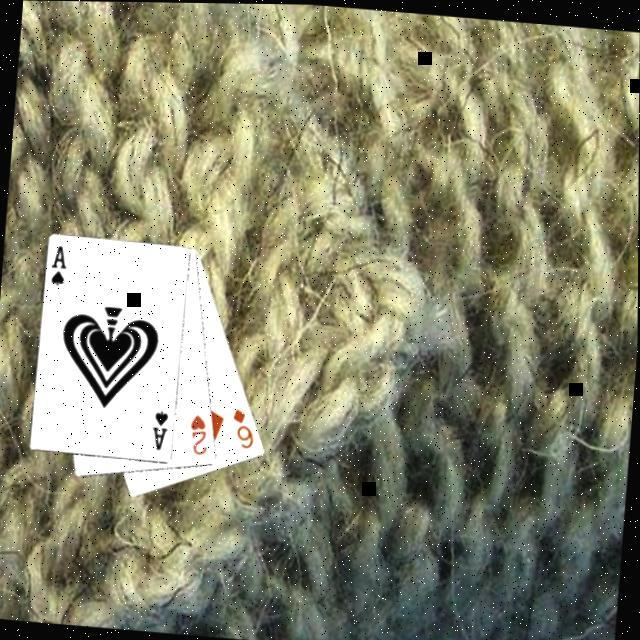2H: (184, 407, 211, 455)
6D: (226, 402, 258, 449)
AS: (145, 405, 170, 451), (45, 239, 69, 286)
